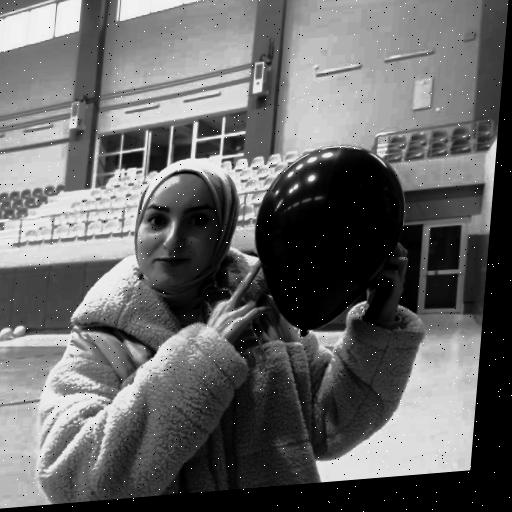balloon: (244, 137, 411, 336)
